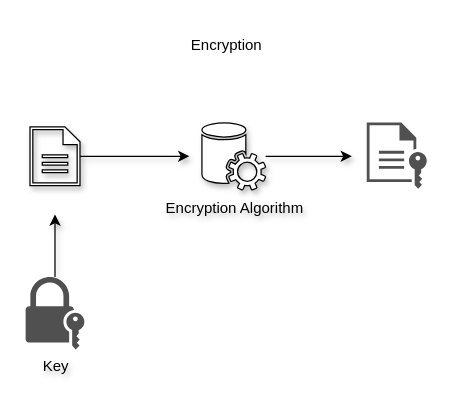
Image size: 455x396. Some labels were removed from this diagram. The shapes that lost their labels are listed below. From the top down, each one's centre as x and y in pixels, then its label:
[56,157]: Plain Text
[396,155]: Cipher Key
